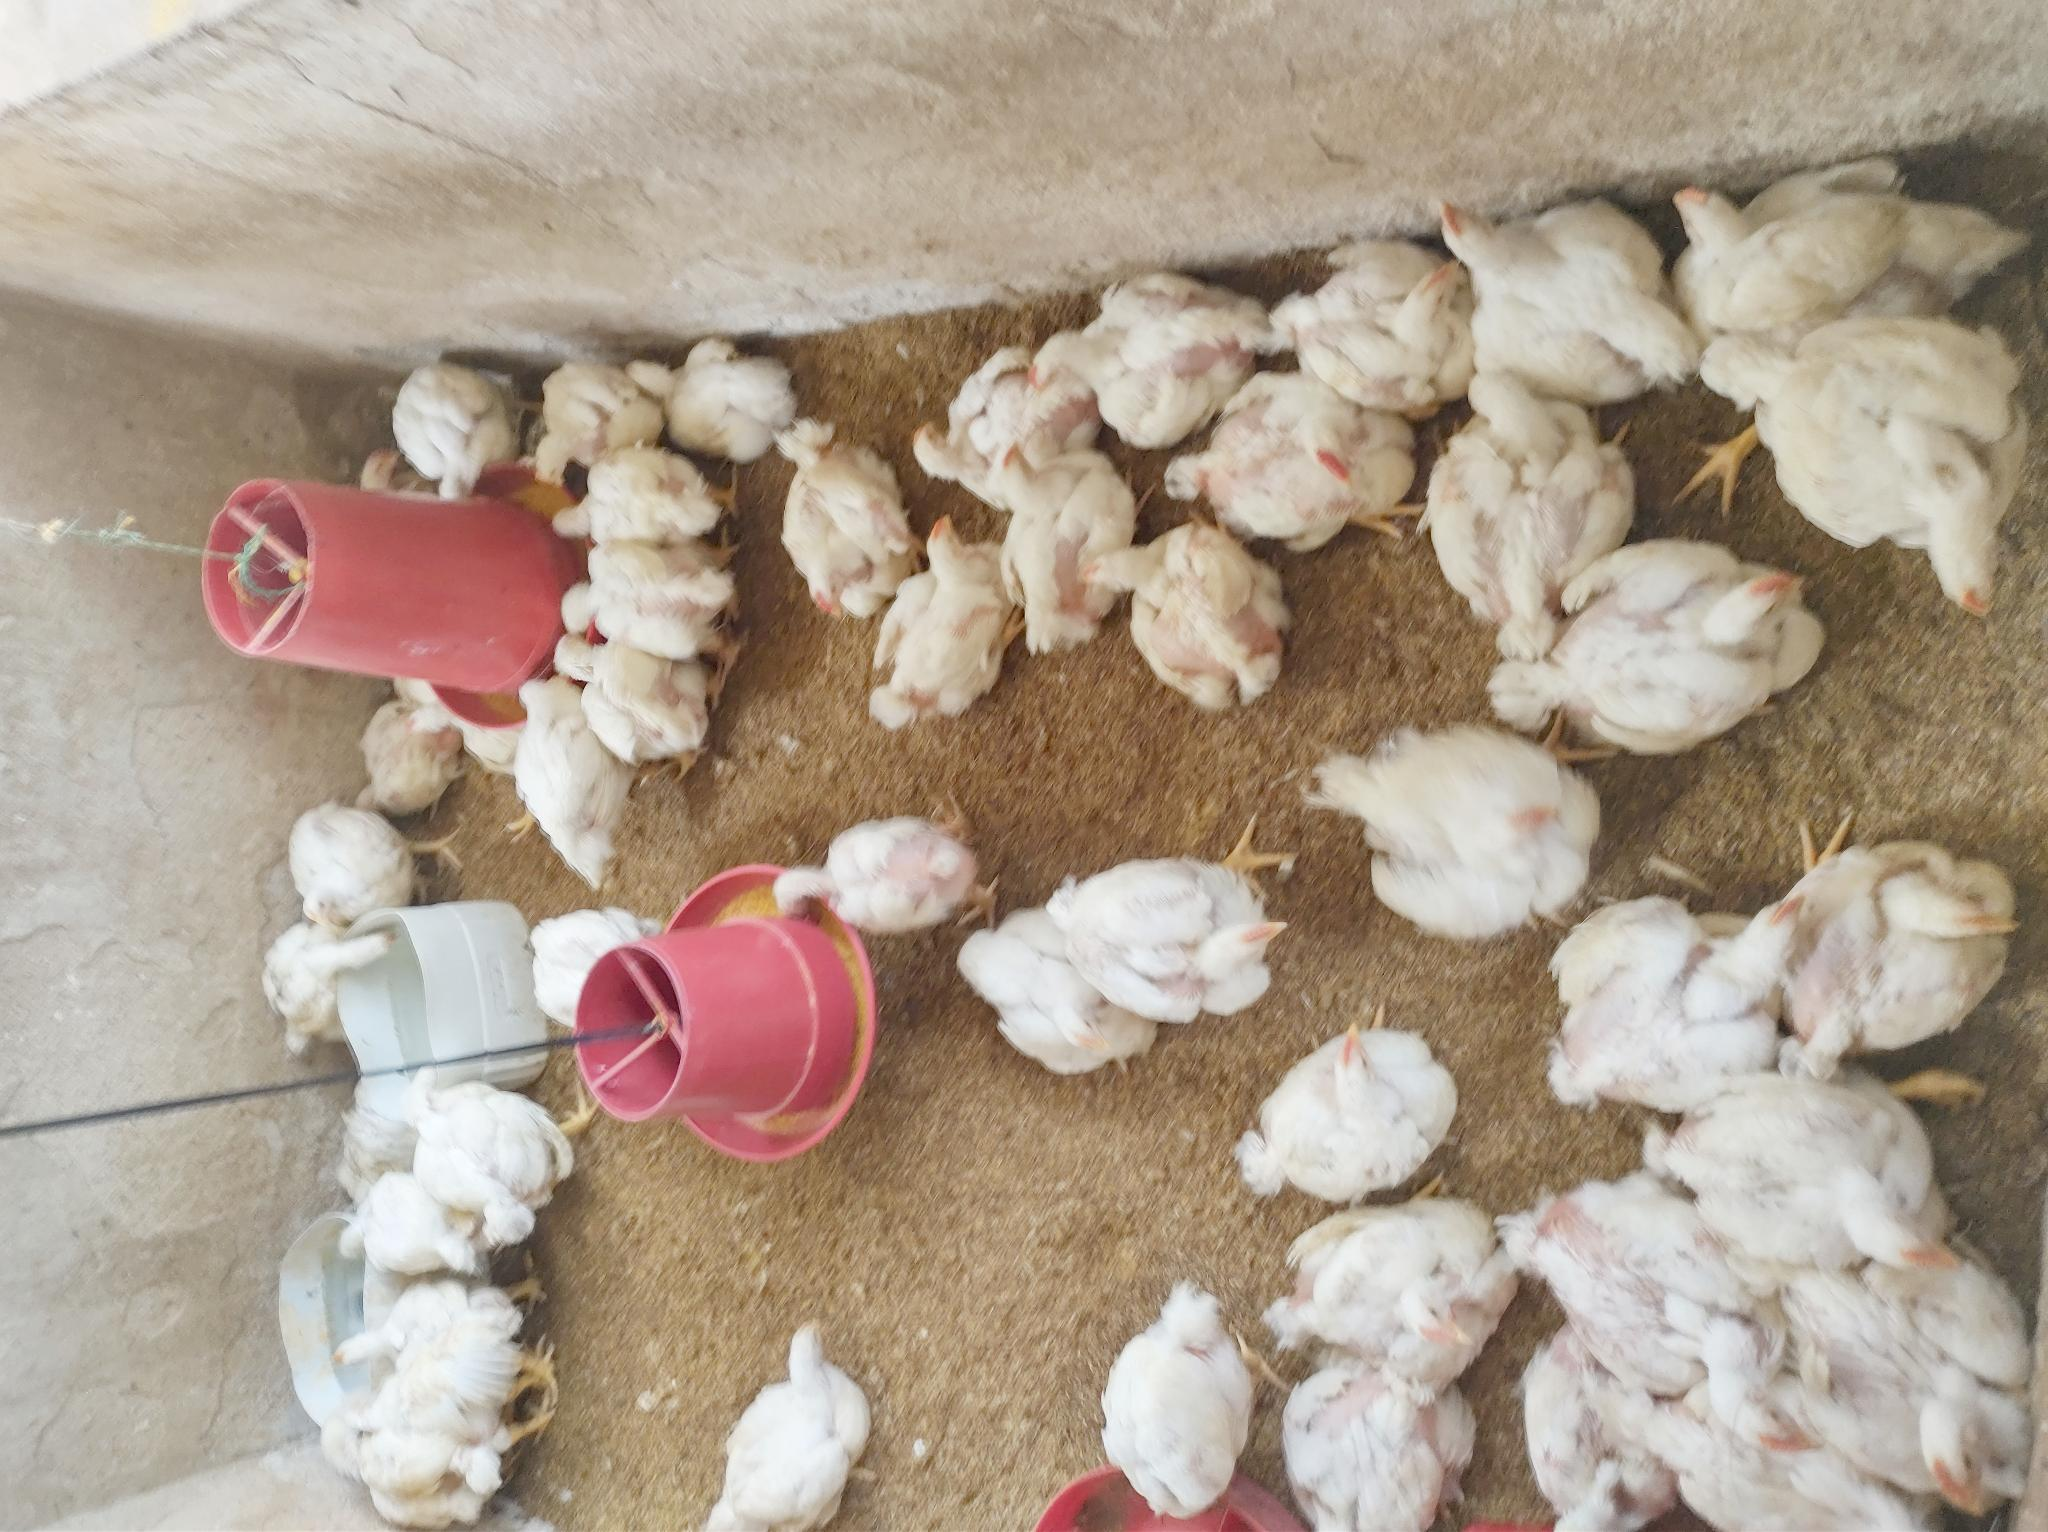Pollos: (1709, 311, 2035, 620), (1749, 1252, 2032, 1506), (1515, 529, 1824, 755), (1667, 1067, 1972, 1283), (1617, 1323, 1924, 1532), (1655, 159, 2013, 336), (1548, 880, 1813, 1115), (1778, 835, 2032, 1080), (1424, 185, 1696, 401), (1314, 735, 1604, 930), (1515, 1180, 1771, 1390), (1425, 367, 1630, 629), (1281, 1186, 1522, 1382), (1018, 277, 1266, 447), (1178, 380, 1424, 550), (1051, 851, 1284, 1025), (1491, 1329, 1689, 1532), (1260, 1357, 1488, 1532), (1244, 1015, 1450, 1209), (1088, 1281, 1256, 1511), (1073, 521, 1284, 705), (697, 1315, 872, 1530), (948, 906, 1157, 1080), (373, 1067, 586, 1234), (985, 422, 1137, 649), (907, 343, 1117, 509), (1276, 240, 1470, 412), (870, 510, 1022, 724), (771, 813, 1005, 946), (325, 1389, 558, 1522), (500, 671, 637, 893), (775, 414, 920, 613), (319, 1278, 563, 1379), (539, 624, 714, 764), (542, 542, 740, 666), (249, 914, 407, 1052), (277, 795, 428, 932), (623, 344, 795, 462), (510, 903, 661, 1036), (537, 452, 732, 555), (322, 1176, 487, 1286), (512, 360, 661, 481), (389, 359, 512, 500), (348, 703, 462, 817)
